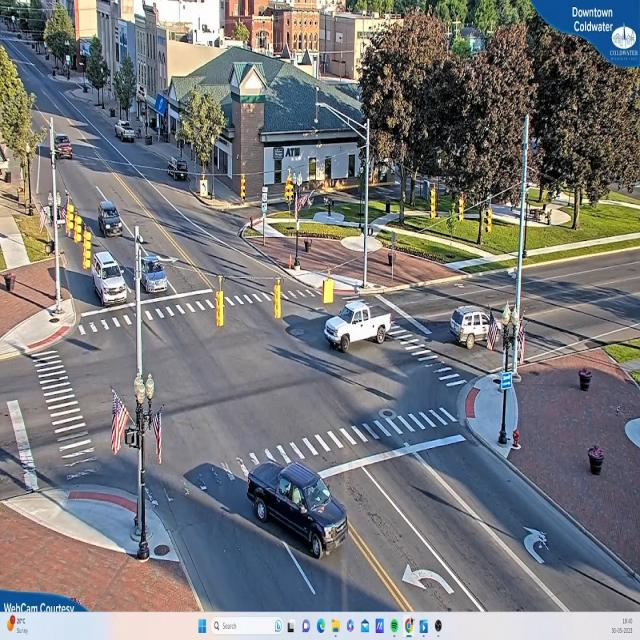car: (246, 457, 349, 556), (327, 298, 392, 349), (451, 302, 499, 349), (90, 256, 128, 310), (97, 203, 122, 239), (164, 157, 191, 180), (53, 131, 71, 160), (116, 123, 136, 143)
